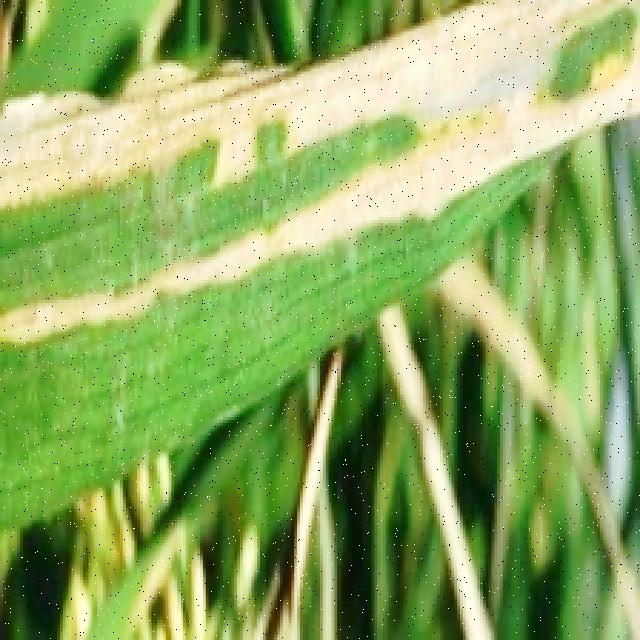unhealth: (0, 0, 640, 535)
